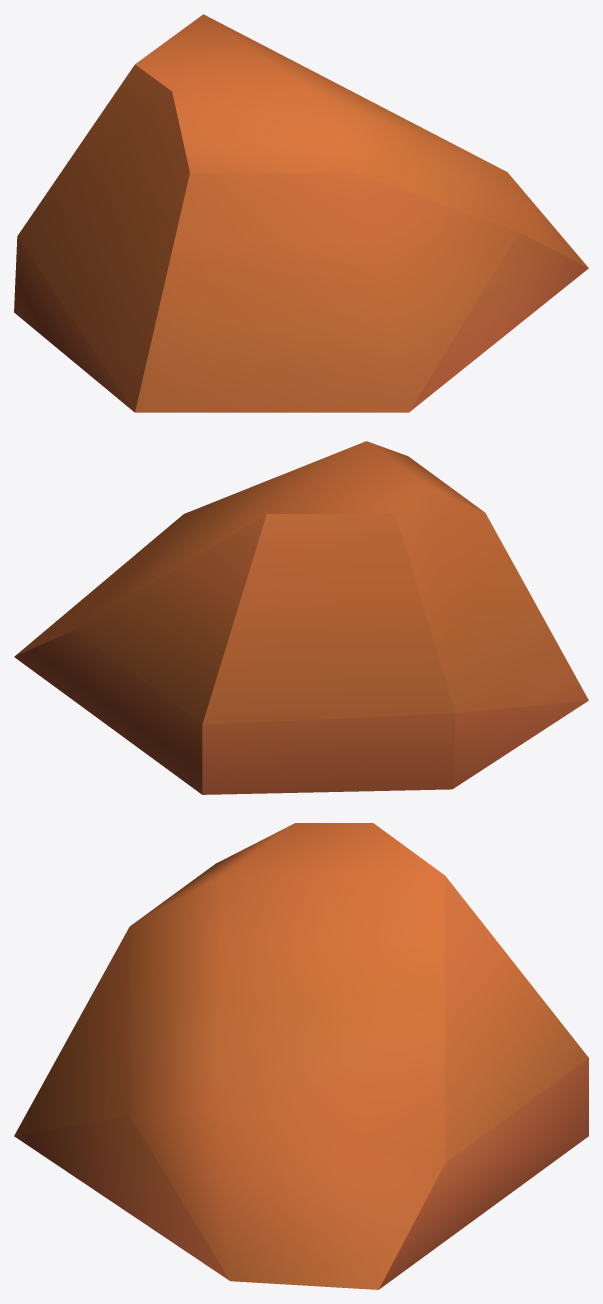
Rendered from rock_a.glb.
3 views of the same model, one above another, from view 1: azimuth 30°, elevation 25°; view 2: azimuth 150°, elevation 25°; view 3: azimuth 270°, elevation 25° (orthographic). The views are drawn at different scales.
Parts seen in each view (by area): view 1: rock_A; view 2: rock_A; view 3: rock_A.
Part boxes in pixels (x1,y1,x2,y2): rock_A: (14, 14, 588, 412); rock_A: (14, 441, 588, 794); rock_A: (14, 823, 588, 1289).
Size of the model in its own units: 0.533 by 0.25 by 0.5.
1 material, 1 textured.
